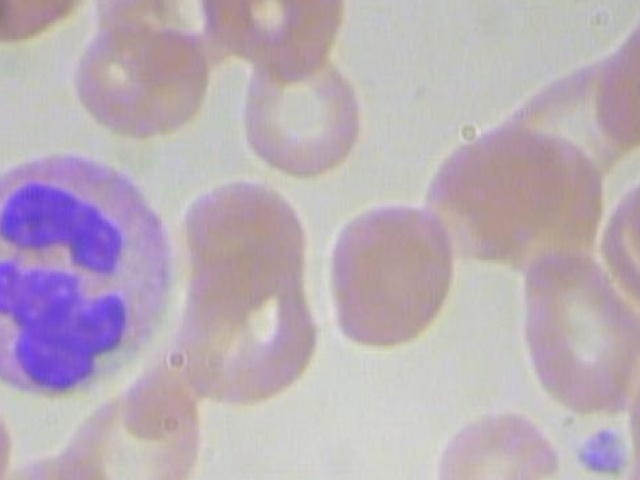Platelets: (569, 427, 634, 480)
RBC: (507, 239, 640, 423), (319, 195, 458, 366), (67, 6, 216, 143), (235, 39, 373, 183), (59, 369, 214, 480), (421, 394, 565, 480), (195, 0, 350, 78), (591, 144, 640, 315), (0, 0, 99, 54), (0, 376, 26, 480), (625, 345, 640, 480)
WBC: (0, 142, 195, 400)
